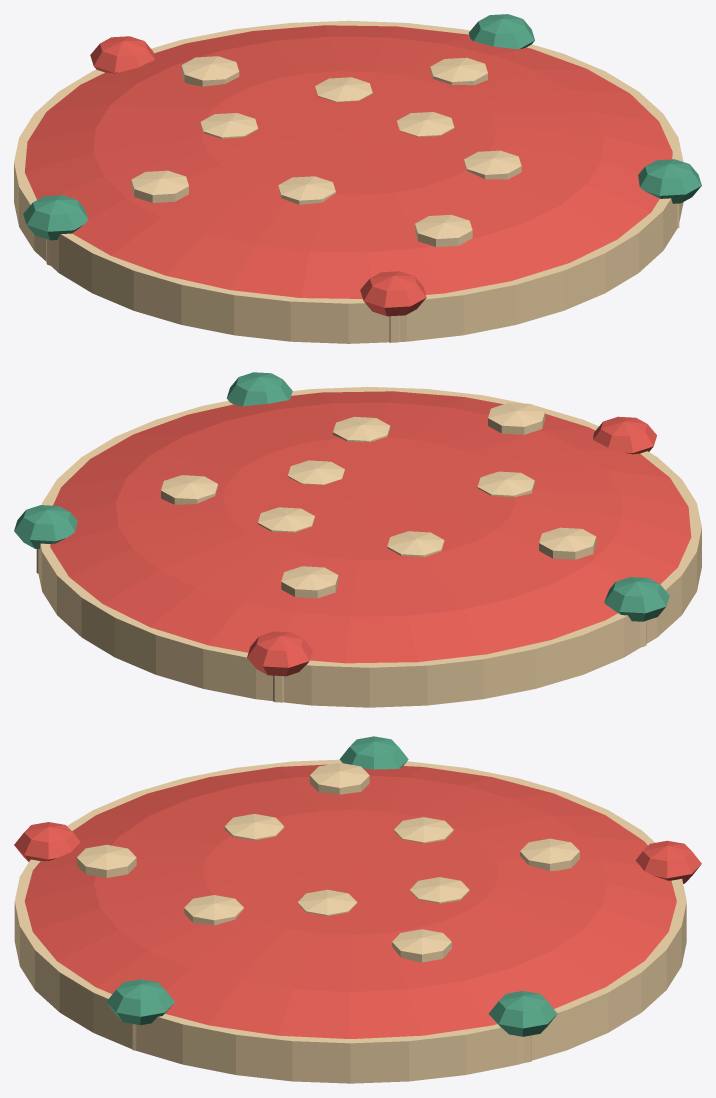
Rendered from ParkParkMushroomMound.obj.
3 views of the same model, one above another, from view 1: azimuth 30°, elevation 25°; view 2: azimuth 150°, elevation 25°; view 3: azimuth 270°, elevation 25° (orthographic).
Parts seen in each view (by area): view 1: ParkParkMushroomMound; view 2: ParkParkMushroomMound; view 3: ParkParkMushroomMound.
Part boxes in pixels (x1=…): ParkParkMushroomMound: x1=14, y1=14, x2=701, y2=343; ParkParkMushroomMound: x1=14, y1=372, x2=701, y2=707; ParkParkMushroomMound: x1=14, y1=736, x2=701, y2=1083.
Size of the model in its own units: 14.08 by 1.68 by 13.92.
